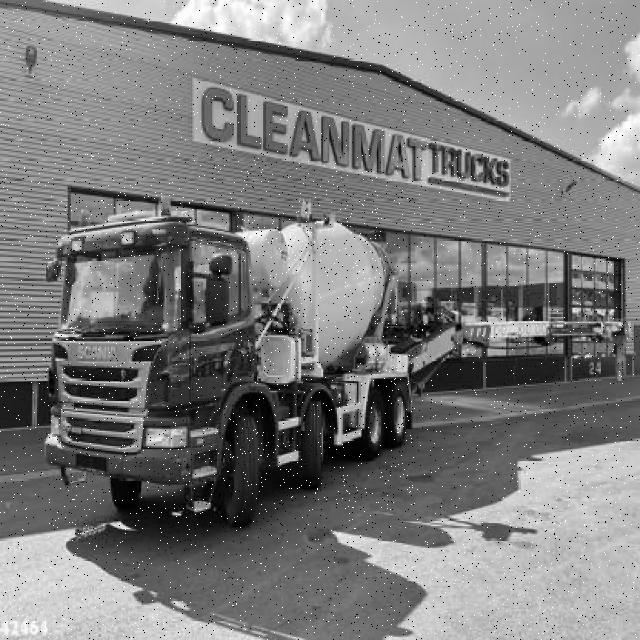Concrete Mixer: (45, 194, 413, 529)
